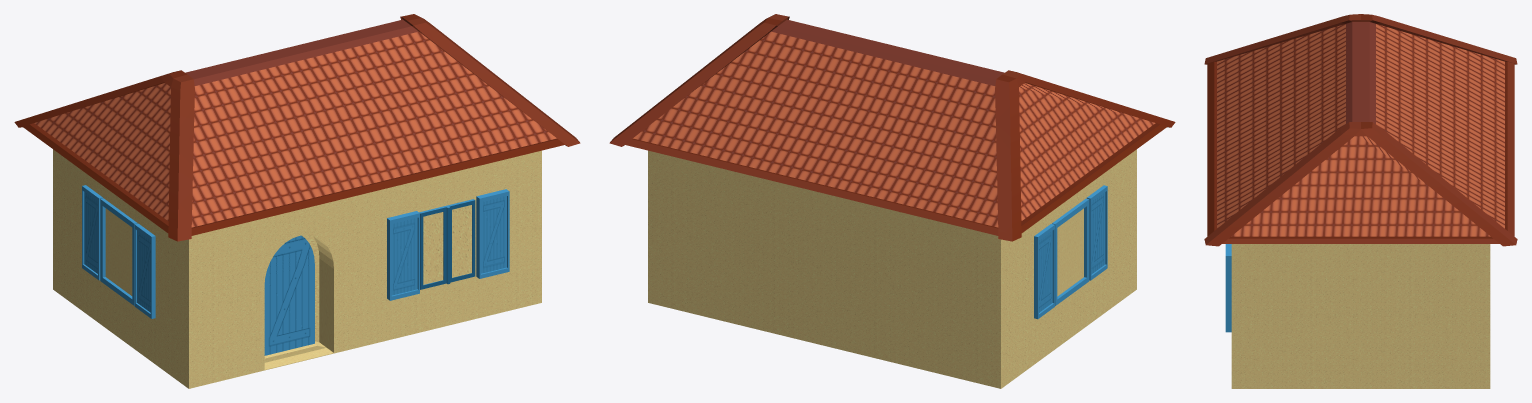
Rendered from Solbourg_Maison.fbx.
3 views of the same model, side by side, from view 1: azimuth 30°, elevation 25°; view 2: azimuth 150°, elevation 25°; view 3: azimuth 270°, elevation 25° (orthographic). The views are drawn at different scales.
Parts seen in each view (by area): view 1: Fenetre, Toit; view 2: Fenetre, Toit; view 3: Toit, Fenetre.
Part boxes in pixels (x1,y1,x2,y2): Fenetre: (53, 149, 541, 388); Toit: (14, 14, 580, 241); Fenetre: (648, 149, 1136, 388); Toit: (609, 14, 1175, 241); Toit: (1204, 14, 1517, 246); Fenetre: (1225, 244, 1490, 388).
Size of the model in its own units: 520 by 303 by 364.
3 materials, 3 textured.
